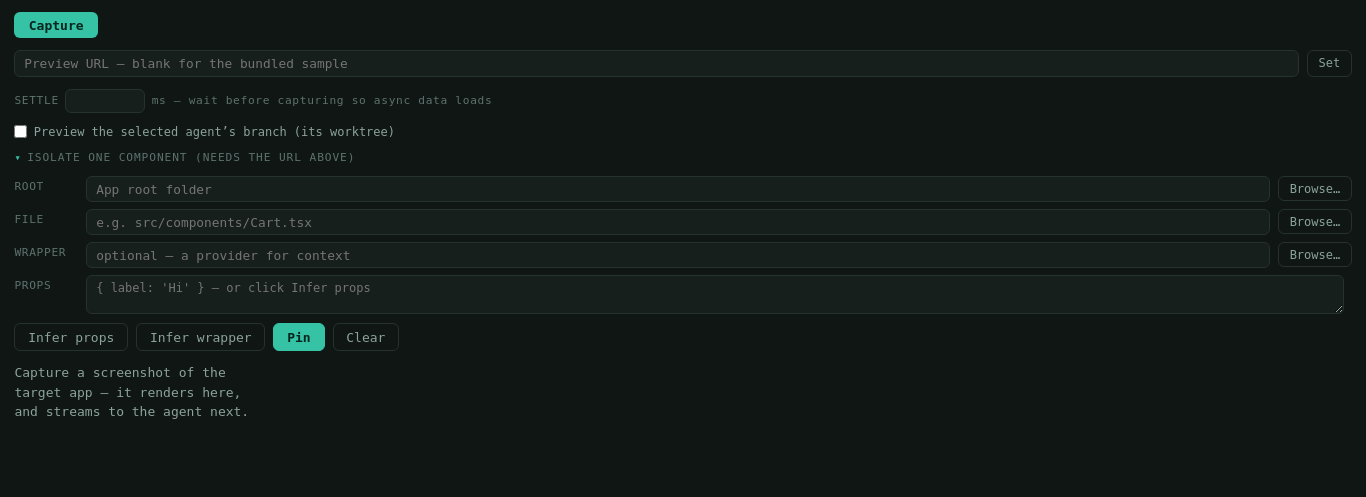
Test: Preview › hints when the selected agent has no worktree to preview
Click the checkbox named "Preview the selected agent's branch": coordinates (21, 132) [14,125,27,138]
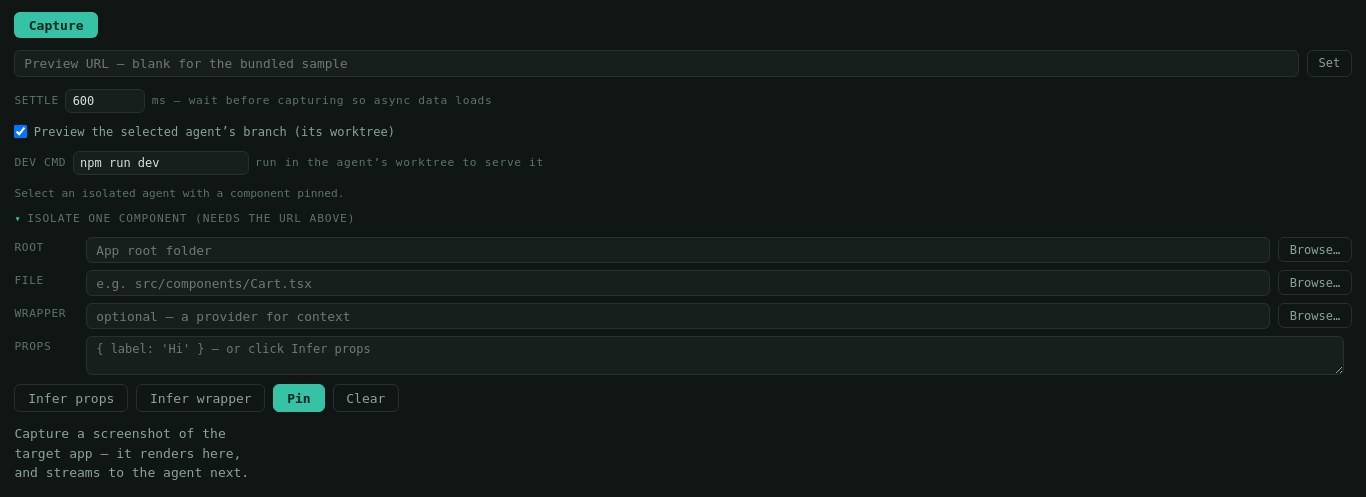
Result: the text "Select an isolated agent with a component pinned." is shown at [14,187,344,200]
